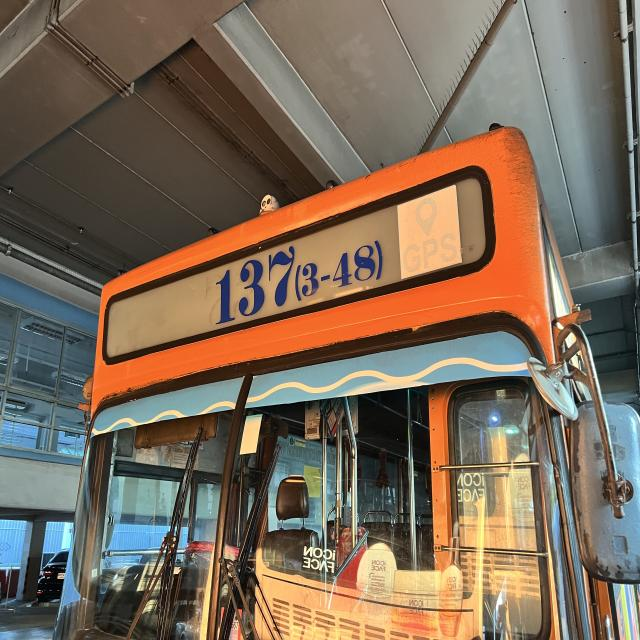BMTA-bus: (56, 126, 640, 640)
Bus-Line-Number: (214, 240, 386, 322)
